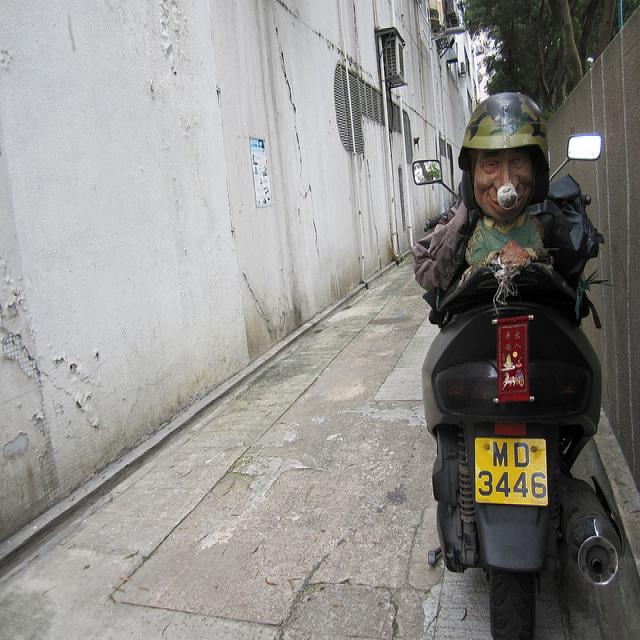motor: (422, 256, 627, 632)
